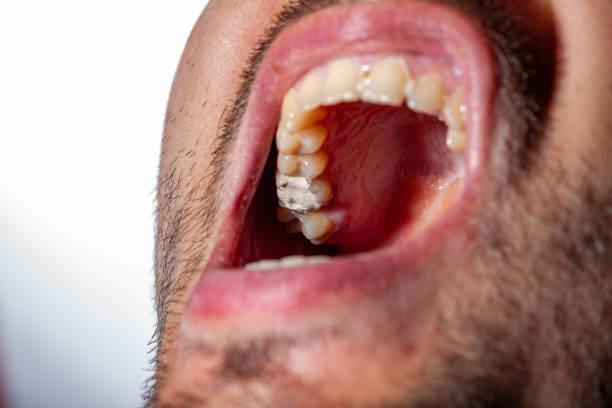Caries: (279, 183, 325, 216)
